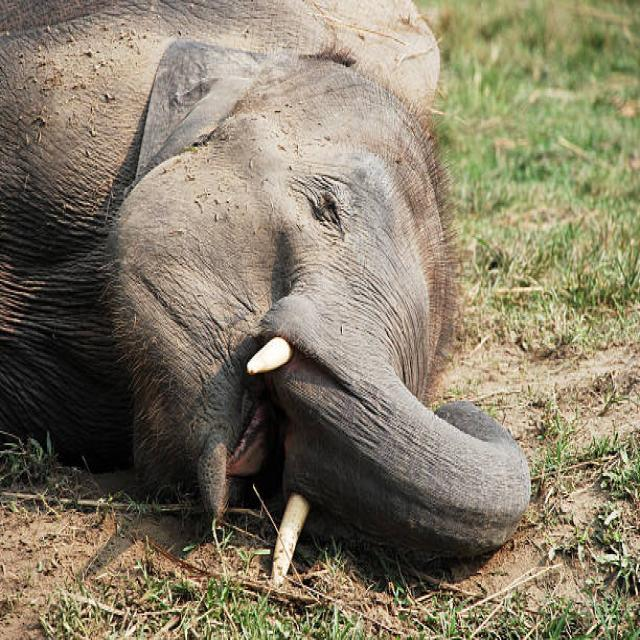Elephant: (1, 0, 541, 593)
